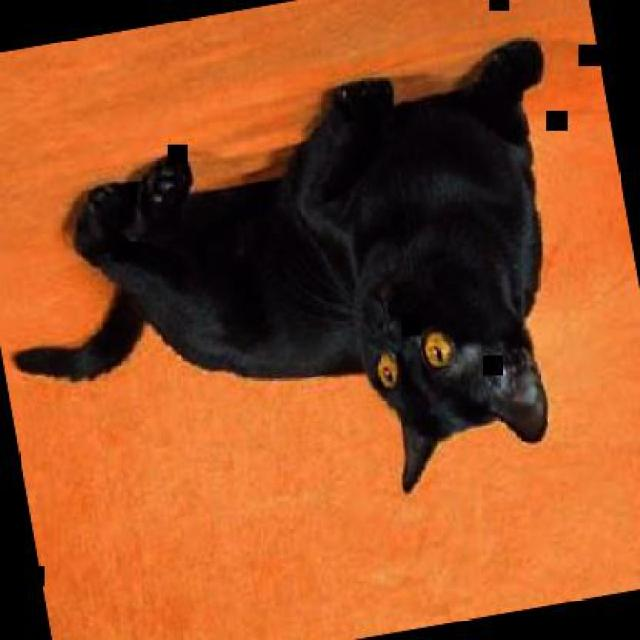cat: (0, 35, 612, 559)
